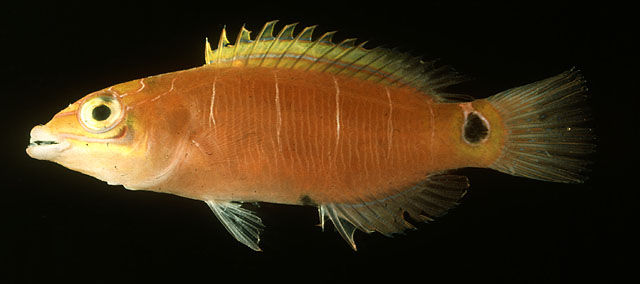fish: (25, 20, 590, 253)
